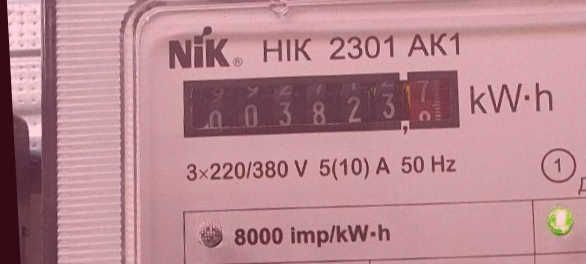0: (238, 98, 260, 126), (204, 104, 224, 128)
2: (343, 91, 364, 124)
3: (378, 88, 397, 119), (274, 96, 294, 125)
7: (414, 76, 432, 105)
8: (308, 96, 327, 125)
9: (205, 83, 224, 103)
screen: (173, 60, 464, 146)
